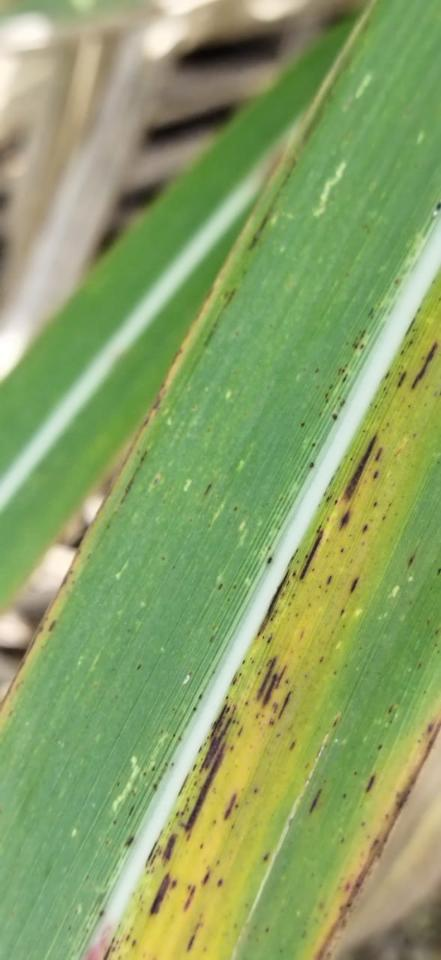RedRot: (87, 923, 113, 959)
Rust: (241, 17, 376, 257), (176, 742, 228, 833), (338, 431, 382, 504), (197, 702, 239, 776), (253, 568, 292, 640), (200, 286, 241, 349), (117, 448, 151, 507), (409, 339, 440, 391), (298, 529, 325, 581), (253, 656, 279, 703), (183, 910, 210, 955), (148, 872, 173, 916), (418, 197, 440, 242), (143, 829, 164, 869), (259, 671, 279, 710), (161, 833, 180, 872), (321, 464, 341, 498), (220, 791, 241, 823), (306, 786, 325, 816), (277, 690, 295, 721), (181, 884, 199, 914), (362, 772, 379, 796), (102, 935, 118, 959), (274, 664, 288, 691), (402, 551, 419, 573), (198, 480, 216, 500), (176, 773, 190, 798), (339, 505, 351, 534), (346, 576, 363, 596), (149, 843, 162, 867), (395, 369, 409, 390), (372, 444, 386, 465), (286, 547, 300, 568), (198, 870, 214, 888), (404, 315, 417, 337), (259, 848, 274, 866), (46, 616, 60, 635), (359, 520, 374, 537), (328, 713, 343, 730), (179, 796, 190, 817), (121, 835, 136, 850), (213, 875, 226, 891), (323, 573, 336, 588), (286, 592, 298, 608), (365, 304, 377, 320), (370, 468, 382, 483), (297, 628, 308, 644), (269, 608, 280, 623), (369, 498, 381, 511), (96, 906, 108, 919), (235, 725, 246, 739), (336, 607, 348, 619), (214, 581, 226, 593), (133, 661, 145, 673), (229, 504, 241, 516), (385, 702, 395, 716), (127, 803, 136, 818), (286, 740, 297, 752), (336, 545, 348, 556), (265, 555, 276, 567), (212, 856, 223, 868), (171, 733, 184, 743), (265, 632, 275, 645), (250, 786, 261, 797), (306, 460, 317, 471), (339, 790, 349, 802), (341, 372, 350, 385), (196, 841, 206, 852), (375, 742, 385, 753), (195, 691, 206, 701), (149, 782, 160, 792), (407, 336, 415, 349), (110, 817, 120, 827), (228, 743, 238, 753), (325, 492, 334, 503), (383, 370, 392, 381), (184, 832, 193, 843), (330, 411, 339, 422), (299, 929, 308, 940), (272, 703, 280, 715), (190, 704, 199, 714), (262, 926, 272, 935), (170, 879, 179, 889), (338, 398, 347, 408), (315, 523, 323, 534), (359, 329, 367, 340), (316, 902, 327, 910), (225, 704, 232, 716), (274, 731, 283, 740), (309, 440, 318, 449), (268, 717, 277, 726), (351, 770, 361, 778), (298, 421, 308, 429), (284, 579, 292, 589), (313, 367, 323, 375), (164, 761, 175, 768), (191, 762, 198, 773), (130, 938, 138, 947), (124, 933, 131, 943), (279, 591, 286, 601), (339, 835, 346, 845), (360, 820, 368, 828), (208, 635, 216, 643), (255, 670, 262, 679), (229, 822, 236, 831), (114, 781, 123, 788), (359, 342, 366, 351), (353, 341, 360, 350), (192, 778, 199, 787), (416, 661, 423, 670), (425, 617, 432, 626), (153, 477, 160, 486), (407, 598, 414, 607), (137, 893, 144, 902), (197, 744, 203, 754), (387, 719, 395, 726), (141, 770, 148, 778), (293, 612, 300, 620), (271, 701, 278, 709), (265, 659, 272, 667), (387, 501, 394, 509), (159, 556, 167, 563), (342, 662, 349, 670), (151, 764, 157, 773), (399, 348, 405, 357), (232, 677, 238, 686), (434, 628, 440, 637), (381, 515, 388, 522), (306, 602, 313, 609), (340, 623, 347, 630), (331, 670, 338, 677), (310, 567, 317, 574), (211, 624, 218, 631), (211, 818, 217, 826), (157, 848, 163, 856), (186, 884, 192, 892), (291, 569, 297, 577), (175, 809, 181, 817), (232, 583, 238, 591), (333, 499, 339, 506), (317, 583, 323, 590), (328, 383, 334, 390), (382, 385, 388, 392), (111, 946, 117, 953), (324, 589, 330, 595), (284, 678, 290, 684), (324, 398, 330, 404), (338, 367, 342, 376), (411, 433, 417, 439), (360, 540, 366, 546), (225, 596, 231, 602), (407, 402, 412, 409), (250, 659, 255, 665), (241, 659, 246, 665), (238, 672, 243, 678), (244, 700, 249, 706), (186, 807, 191, 813), (437, 567, 440, 577), (433, 642, 438, 648), (341, 368, 346, 374), (385, 421, 390, 427), (348, 559, 354, 564), (358, 645, 363, 651), (203, 741, 207, 748), (326, 516, 330, 523), (304, 554, 309, 559), (235, 720, 240, 725), (343, 363, 348, 368), (347, 533, 352, 538), (255, 714, 259, 720), (325, 392, 329, 398), (436, 649, 440, 655), (423, 402, 427, 408), (331, 629, 335, 635), (115, 939, 119, 945), (261, 713, 265, 718), (303, 674, 308, 678), (295, 560, 300, 564), (206, 735, 210, 740), (225, 695, 229, 700), (232, 719, 236, 724), (374, 404, 378, 409), (349, 457, 353, 462), (425, 385, 429, 390), (287, 618, 291, 623), (288, 611, 292, 616), (117, 955, 122, 959), (362, 429, 366, 433), (325, 554, 329, 558), (290, 650, 294, 654), (262, 635, 265, 640), (326, 537, 329, 542), (258, 721, 261, 725), (249, 656, 252, 660)
Yellow: (308, 700, 440, 959), (317, 654, 326, 665)
